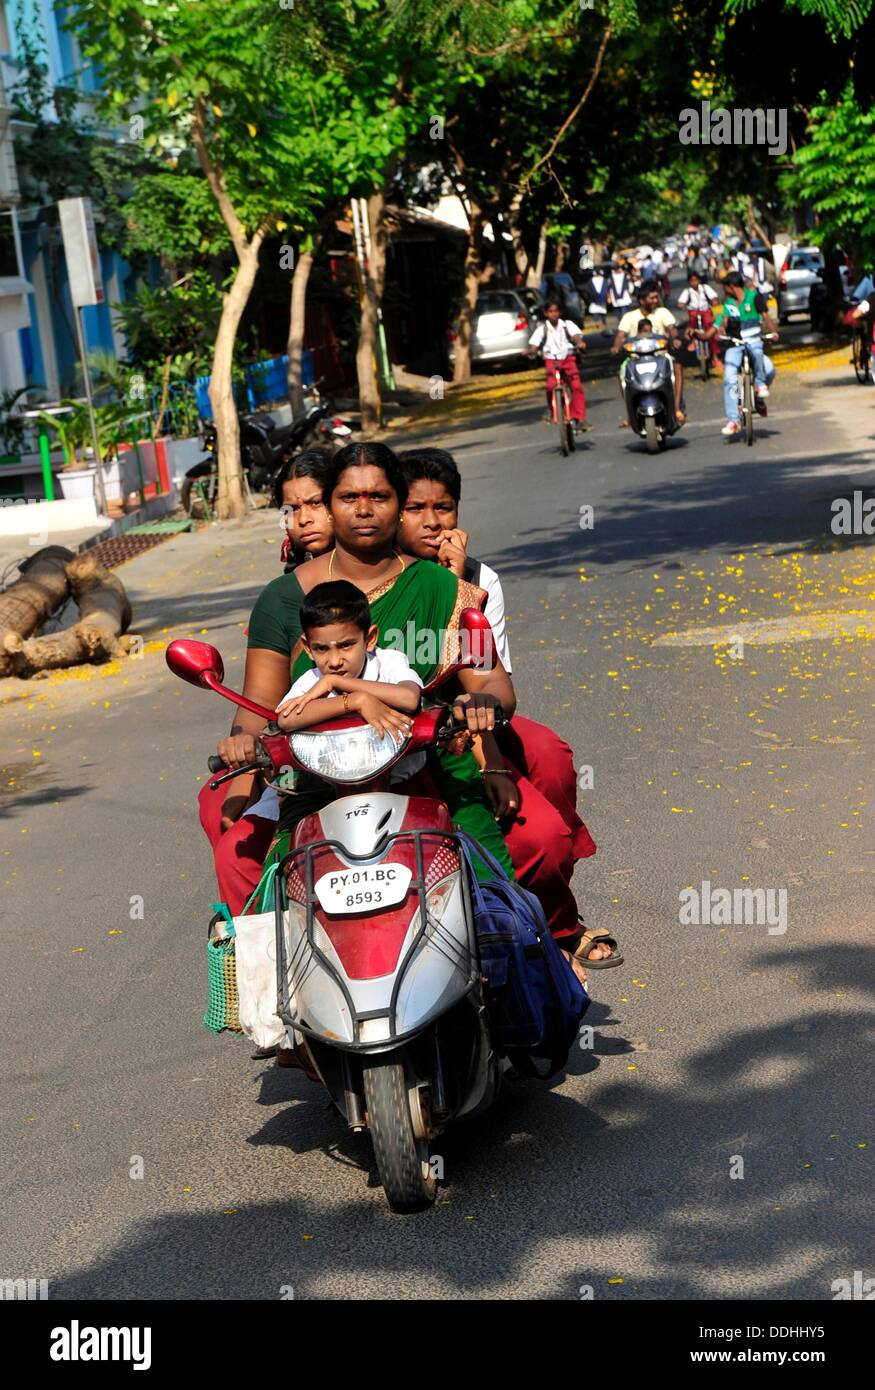motor: (166, 643, 590, 1220)
no helmet: (392, 434, 465, 562), (328, 442, 401, 555), (300, 582, 375, 681), (271, 452, 334, 555)
number: (313, 864, 412, 916)
